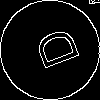D: (25, 25, 80, 75)
